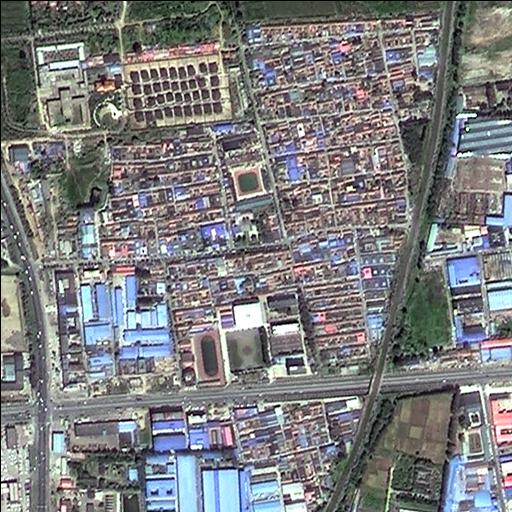school: (227, 159, 277, 209)
